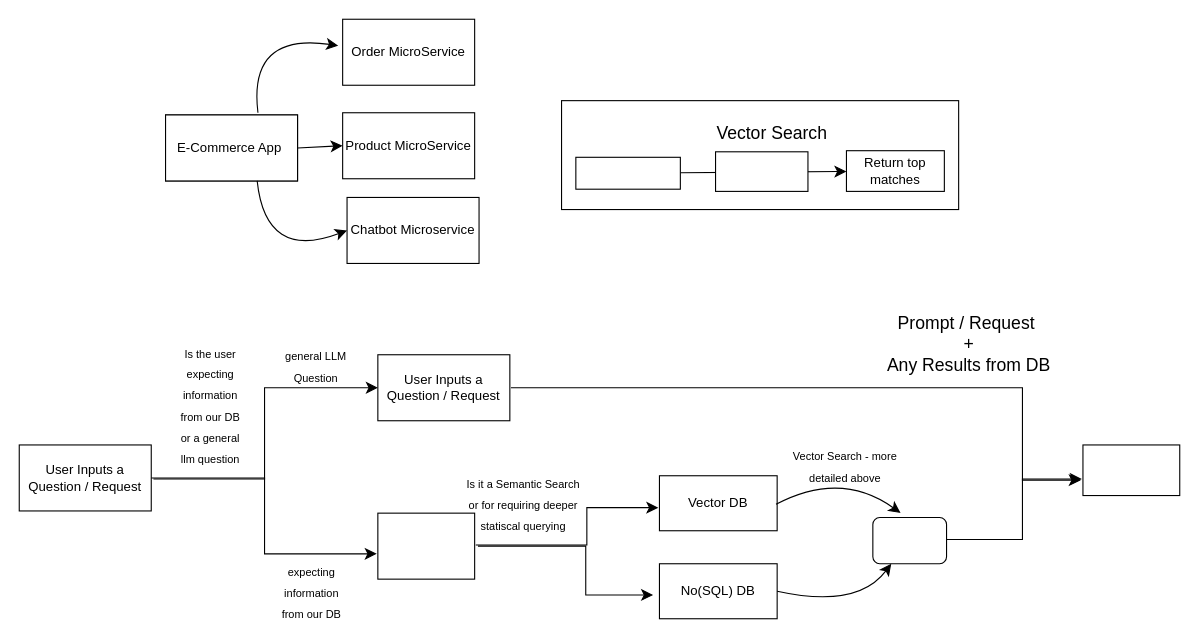
Some shapes in this 1199 by 642 pixel diagram are drawn without their labels. The shapes that lost their labels are listed below. From the top down, each one's centre as x and y in pixels, then its label:
At pixel 627 172: "Convert query to vector".
At pixel 761 171: "Find similar vectors".
At pixel 1131 470: "Response".
At pixel 426 545: "Vector DB or (No)SQL DB".
At pixel 909 540: "Results".
